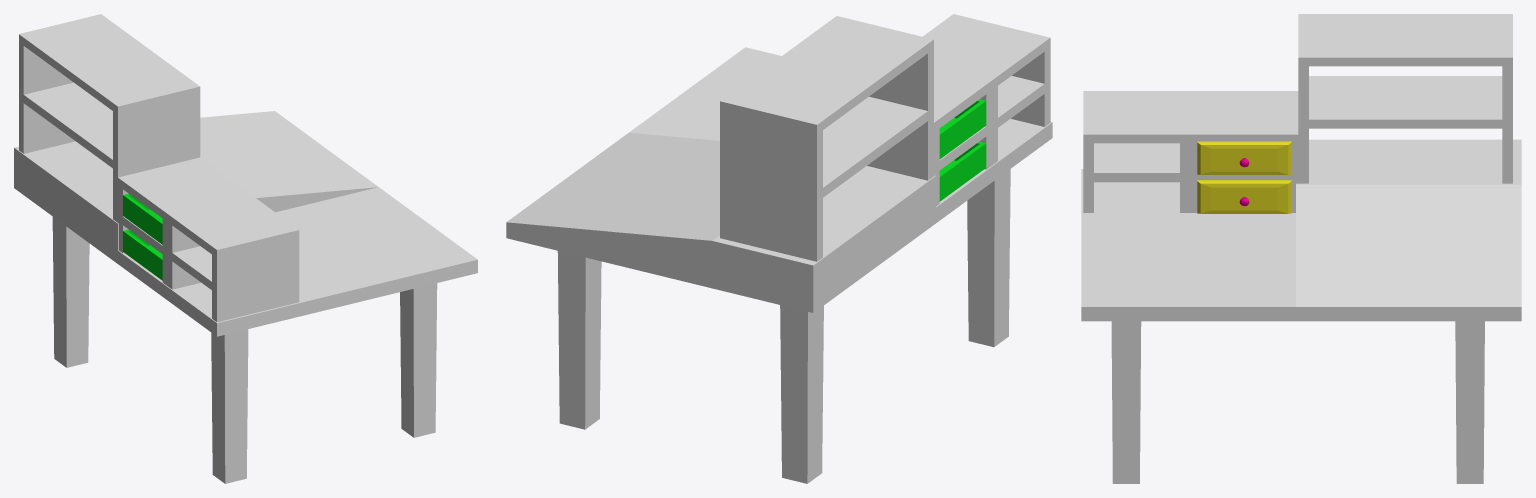
File: desk.glb
3 renders of one model, left to right at view 1: azimuth 30°, elevation 25°; view 2: azimuth 150°, elevation 25°; view 3: azimuth 270°, elevation 25°, orthographic. The views are drawn at different scales.
Visible parts, largest first — view 1: plateau, Cube.002, Cube.008, Cube.004, Cube.010, Cube.001, Cube.011, Cube.006, Cube.007; view 2: plateau, Cube.002, Cube.008, Cube.011, Cube.009, Cube.010, Cube.004, Cube.006, Cube.007; view 3: plateau, Cube.002, Cube.008, Cube.004, Cube.001, Cube.009, Cube.007, Cube.006.
Part boxes in pixels (box(x1,y1,x2,y2)): plateau: box(14, 111, 477, 336); Cube.002: box(19, 14, 200, 222); Cube.008: box(167, 193, 299, 322); Cube.004: box(118, 157, 249, 285); Cube.010: box(211, 329, 248, 483); Cube.001: box(400, 283, 437, 437); Cube.011: box(52, 216, 89, 367); Cube.006: box(123, 229, 162, 280); Cube.007: box(123, 193, 162, 244); plateau: box(506, 47, 1052, 312); Cube.002: box(720, 16, 933, 261); Cube.008: box(922, 14, 1050, 164); Cube.011: box(780, 305, 823, 483); Cube.009: box(557, 251, 601, 429); Cube.010: box(967, 169, 1010, 347); Cube.004: box(934, 66, 992, 206); Cube.006: box(939, 141, 986, 201); Cube.007: box(939, 99, 986, 159); plateau: box(1081, 139, 1521, 321); Cube.002: box(1298, 14, 1512, 183); Cube.008: box(1083, 91, 1190, 212); Cube.004: box(1191, 91, 1298, 212); Cube.001: box(1111, 321, 1141, 483); Cube.009: box(1455, 321, 1484, 483); Cube.007: box(1197, 141, 1291, 174); Cube.006: box(1197, 180, 1291, 213).
Size of the model in its own units: 3.04 by 3.56 by 4.1.
